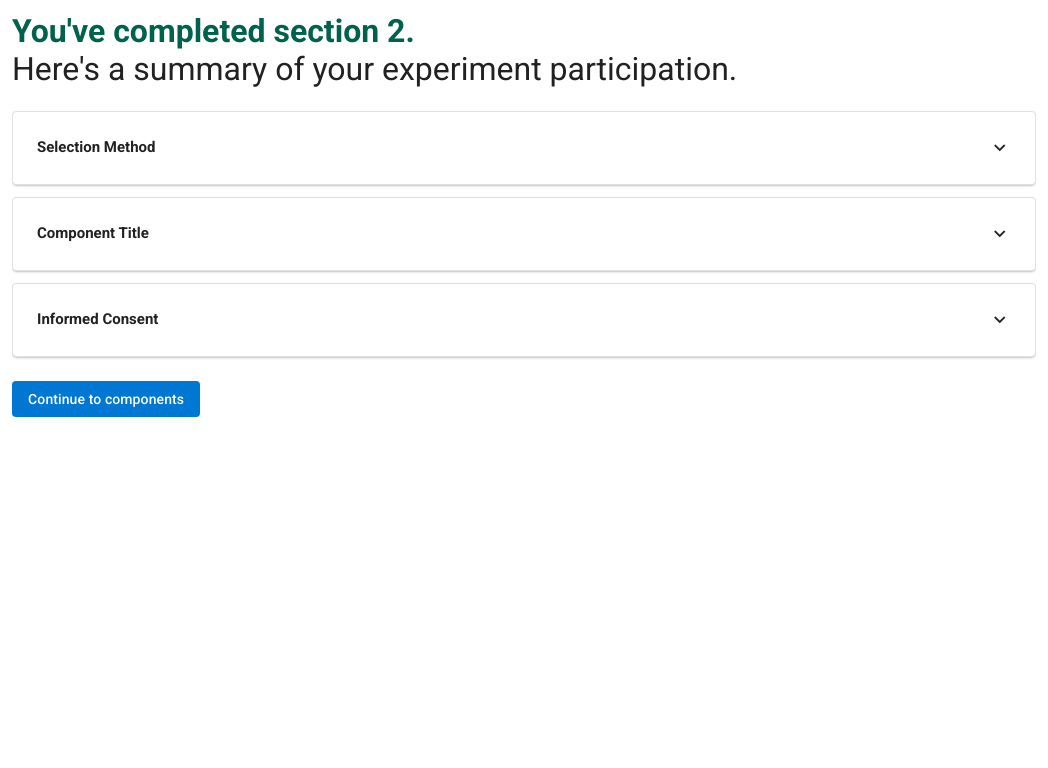
Test: ParticipationSummary › describes participationType CONSENT as Invited students to consent
Click the button "Selection Method". click: [96, 147]
box: left=13, top=124, right=1035, bottom=172
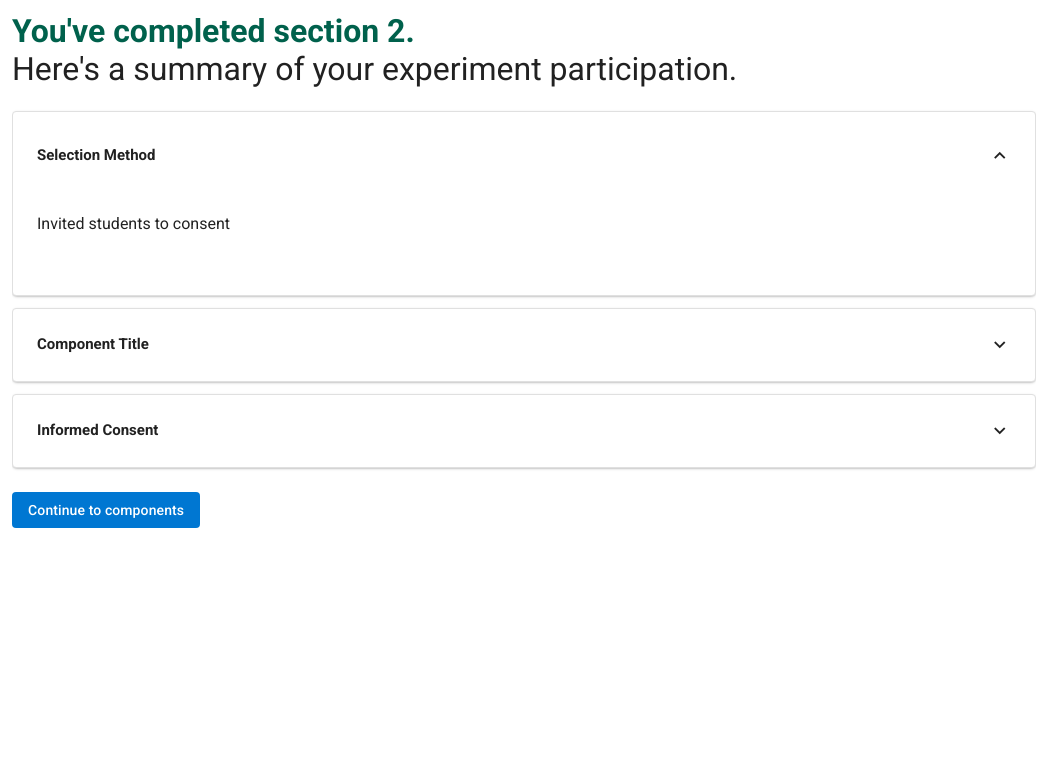
Expected: the text "Invited students to consent" is shown, left=37, top=214, right=230, bottom=233
